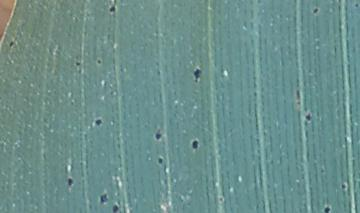tarspot: (88, 114, 107, 130), (62, 174, 78, 192), (292, 85, 304, 109), (188, 135, 201, 153), (96, 189, 110, 205), (191, 64, 202, 84), (105, 2, 120, 16), (303, 108, 314, 126), (92, 55, 107, 67), (318, 201, 333, 213), (338, 178, 350, 193), (309, 4, 321, 18), (153, 127, 163, 143), (73, 57, 84, 69), (110, 201, 121, 213), (154, 154, 165, 166), (7, 36, 16, 49), (351, 1, 360, 9)
